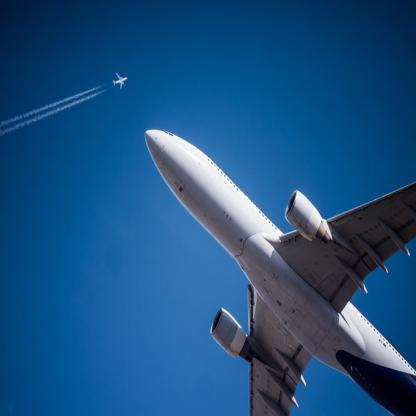CIV_Plane: (139, 124, 414, 414), (110, 68, 131, 94)
